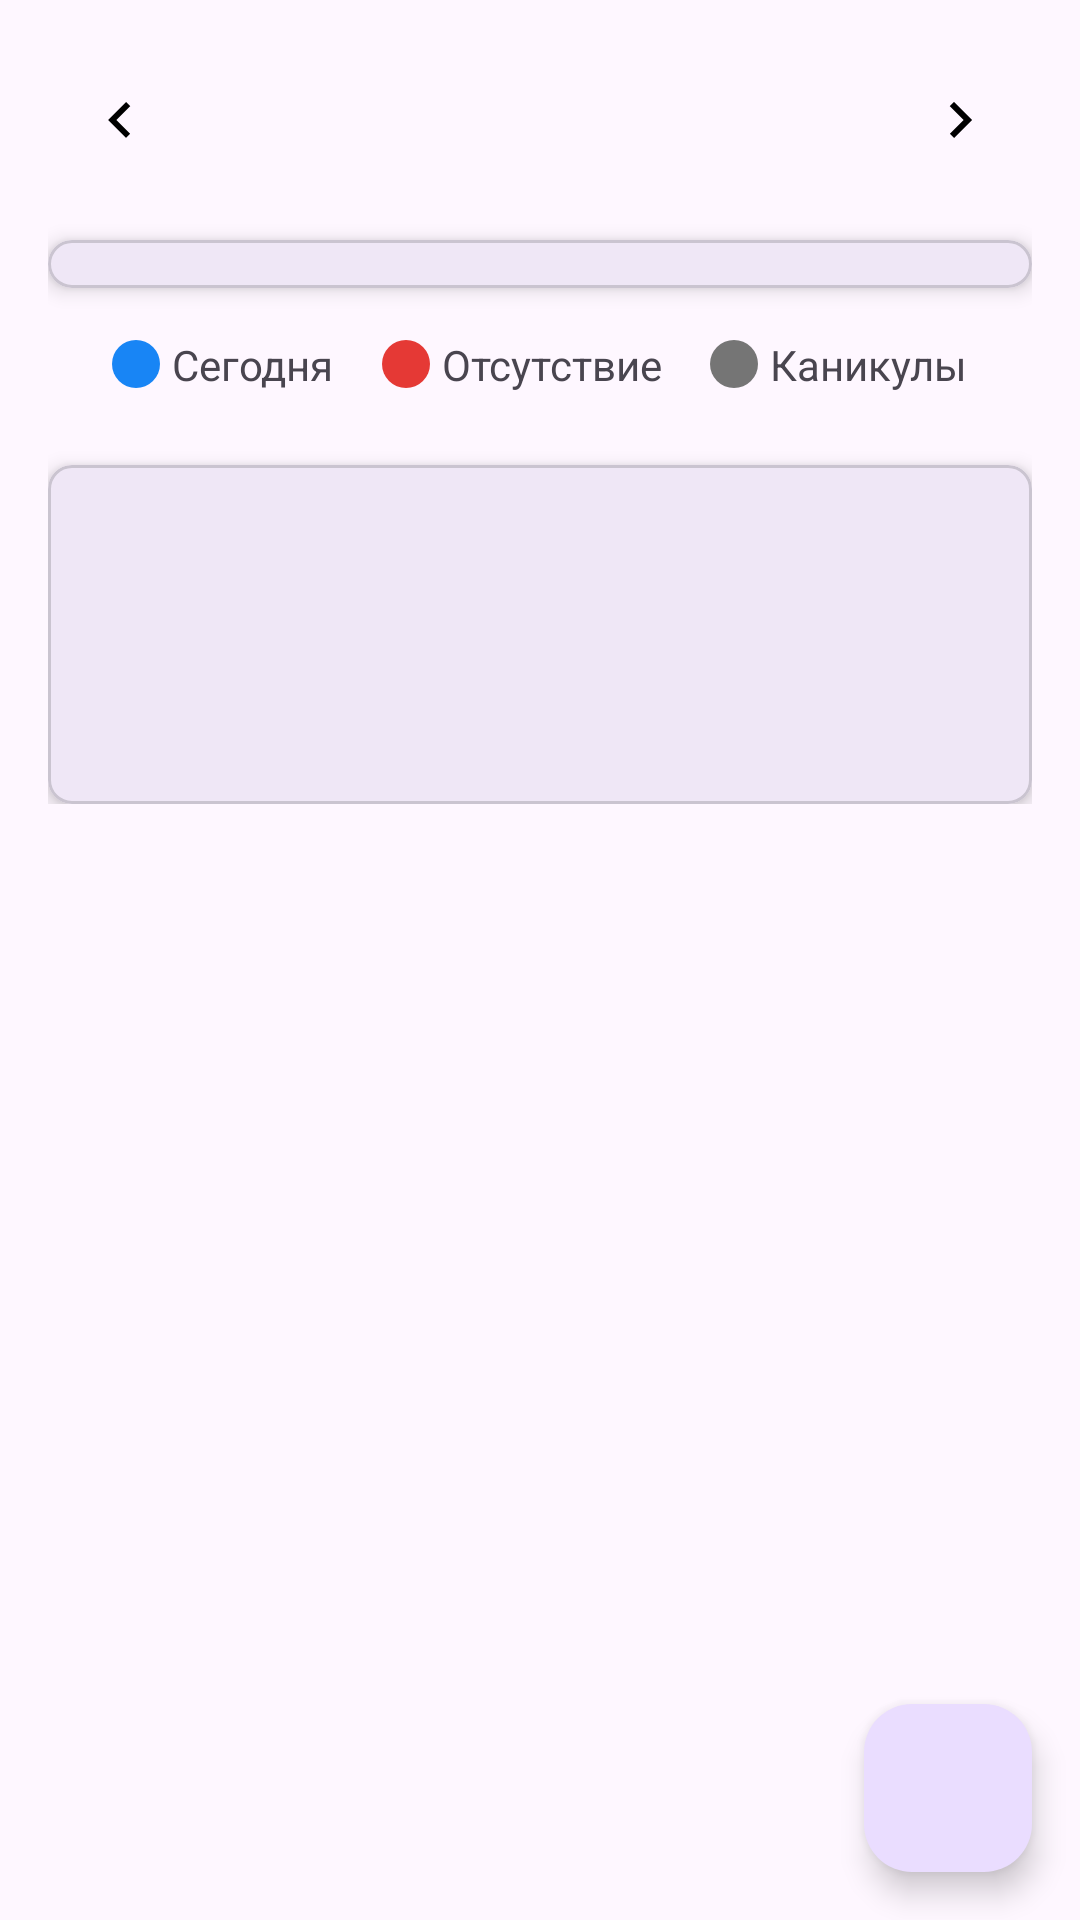

Named icons in this screenshot (1080px x 1920px) and their bounding boxes, bbox=(x1, y1, x2, y2):
Предыдущий месяц: bbox=(108, 102, 130, 138)
Следующий месяц: bbox=(950, 102, 972, 138)
